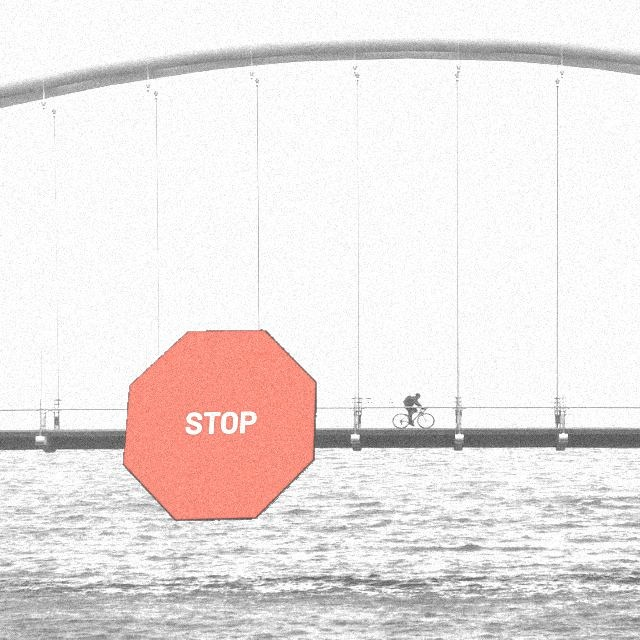STOP: (122, 329, 317, 521)
